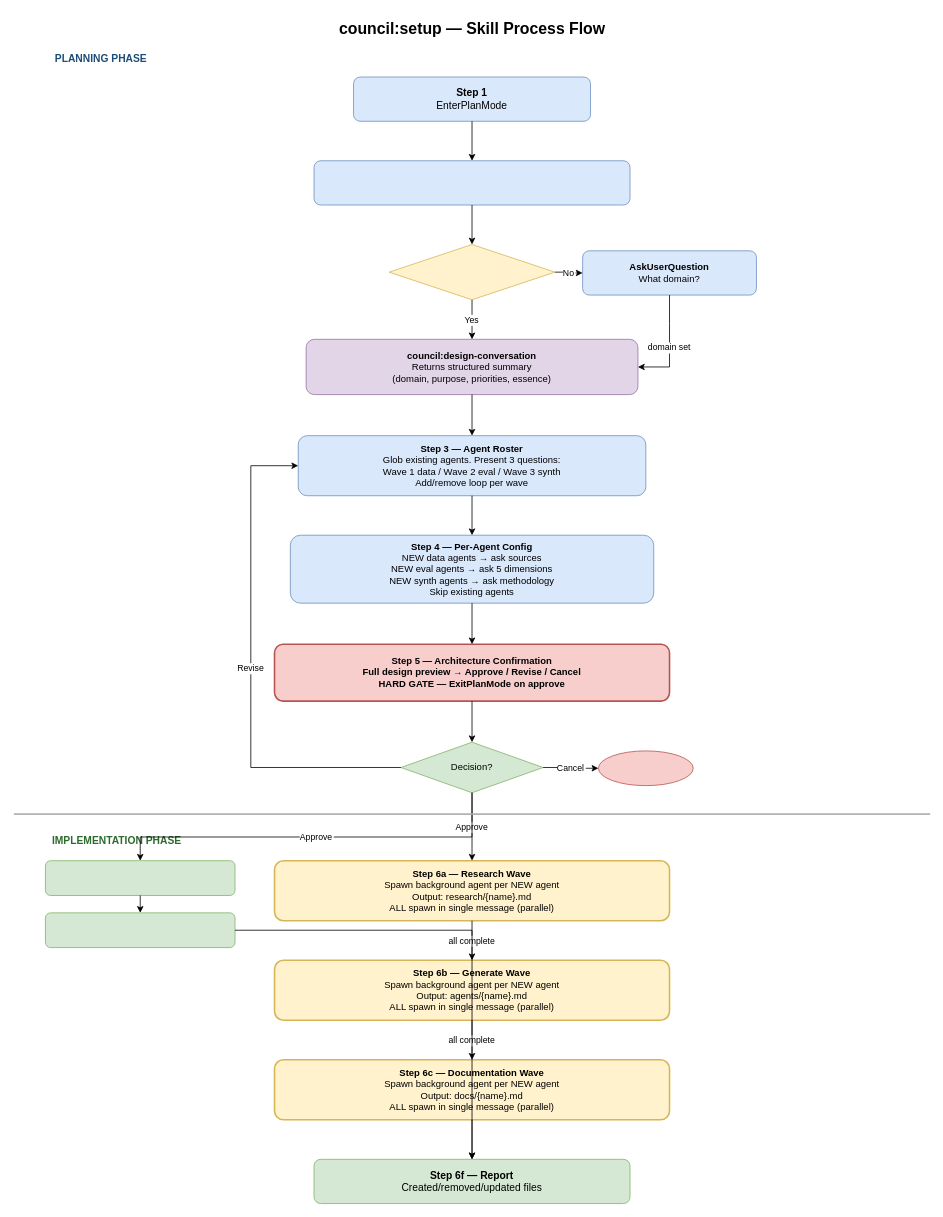
The diagram is 943 pixels wide and 1217 high, and some of its shapes have lost their labels. The box of each missing label's shape, as (x1, y1, x2, y2) in pixels:
6d Delete deselected agents: (45, 860, 235, 895)
6e Update README.md: (45, 912, 235, 948)
Cancel (exit): (598, 750, 693, 786)
Has $ARGUMENTS?: (388, 244, 555, 300)
Step 2 — Domain Selection Branch on $ARGUMENTS, invoke design-conversation: (313, 160, 630, 205)
